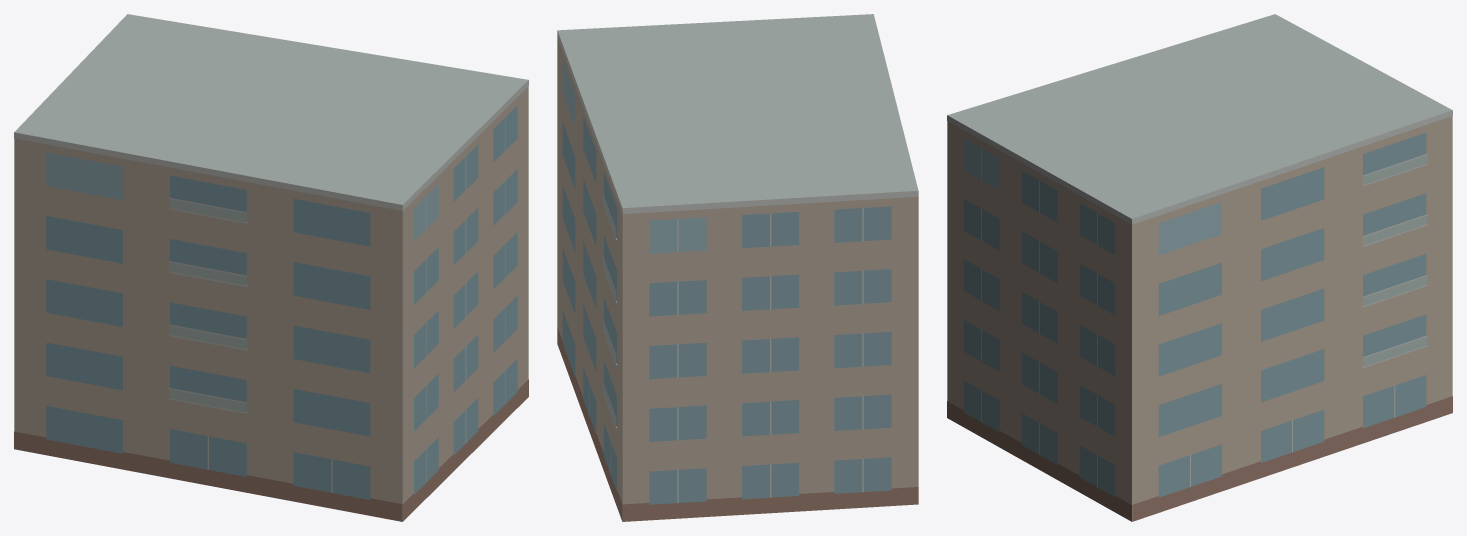
The model's file is survey-upis-32724215.glb.
3 views of the same model, side by side, from view 1: azimuth 30°, elevation 25°; view 2: azimuth 150°, elevation 25°; view 3: azimuth 270°, elevation 25° (orthographic). The views are drawn at different scales.
Parts seen in each view (by area): view 1: survey-upis-32724215.tmp; view 2: survey-upis-32724215.tmp; view 3: survey-upis-32724215.tmp.
Part boxes in pixels (x1,y1,x2,y2): survey-upis-32724215.tmp: (14, 14, 528, 521); survey-upis-32724215.tmp: (557, 14, 918, 521); survey-upis-32724215.tmp: (947, 14, 1452, 521).
Size of the model in its own units: 18.74 by 12.9 by 19.53.
